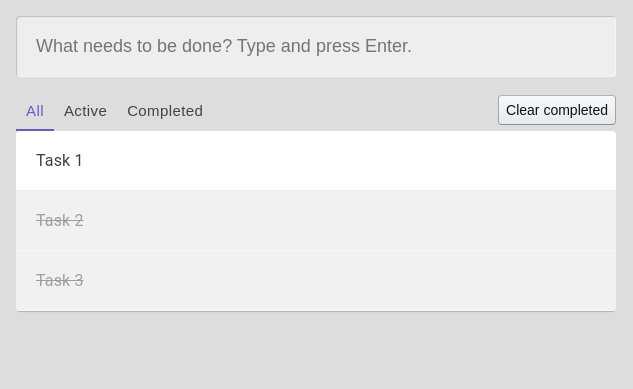
Test: A new task is successfully created.
The image size is (633, 389).
Type "New task" into the field at point(316, 46), box [16, 16, 616, 77]
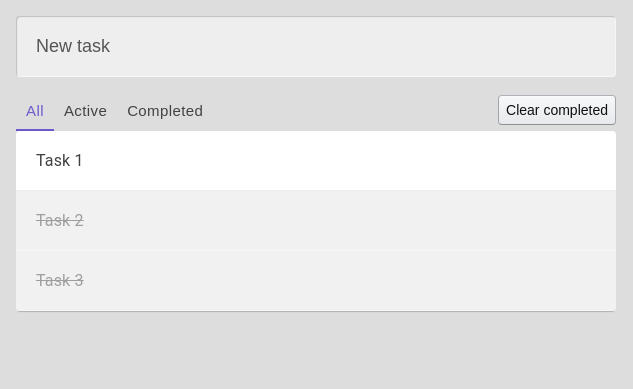
Press Enter in the field, box [16, 16, 616, 77]
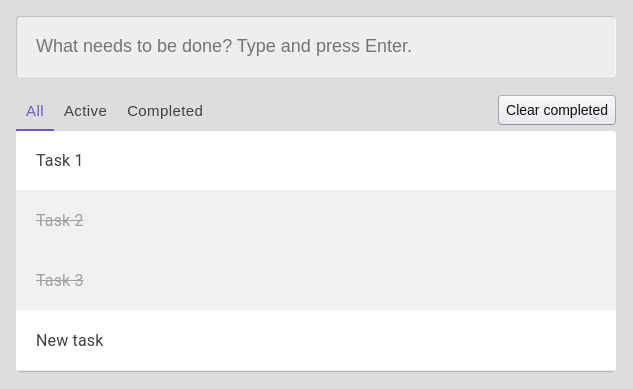
expect the number of list items is 4: met, box [16, 131, 616, 191]; [16, 191, 616, 251]; [16, 251, 616, 311]; [16, 311, 616, 371]
